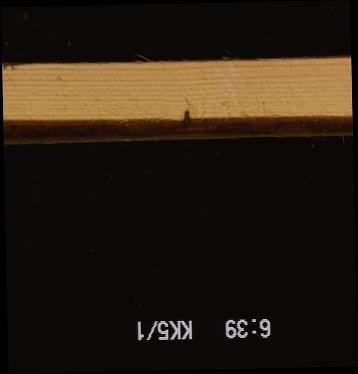wave: (2, 115, 352, 142)
